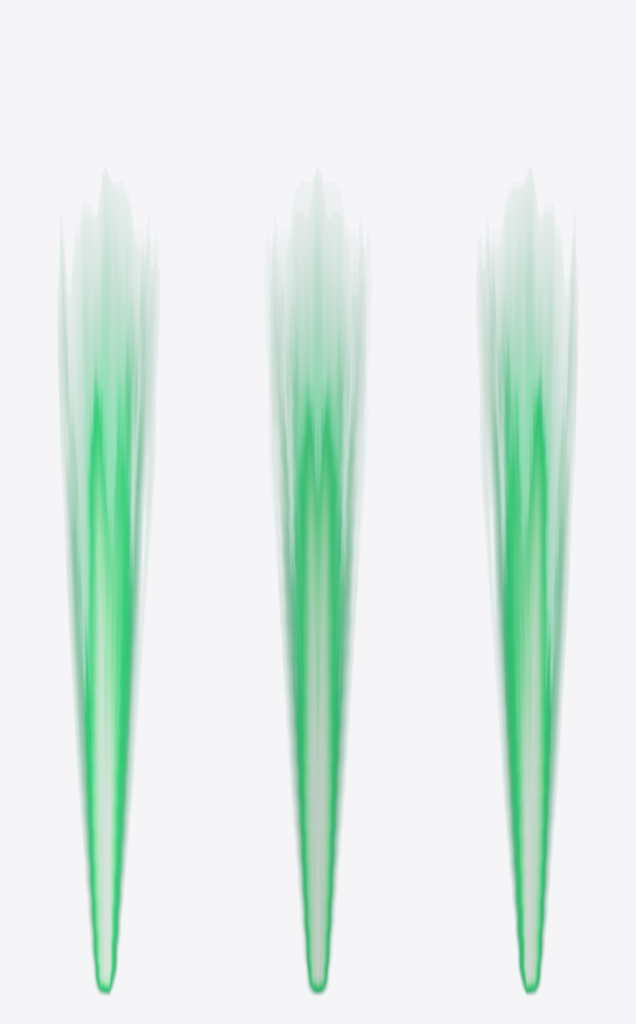
File: trail_flame_emerald.glb
3 renders of one model, left to right at view 1: azimuth 30°, elevation 25°; view 2: azimuth 150°, elevation 25°; view 3: azimuth 270°, elevation 25°, orthographic.
Parts seen in each view (by area): view 1: flame; view 2: flame; view 3: flame.
Part boxes in pixels (x1,y1,x2,y2): flame: (61, 224, 152, 994); flame: (272, 224, 363, 994); flame: (483, 224, 574, 994).
Size of the model in its own units: 11.8 by 58 by 10.22.
1 material, 1 textured.
